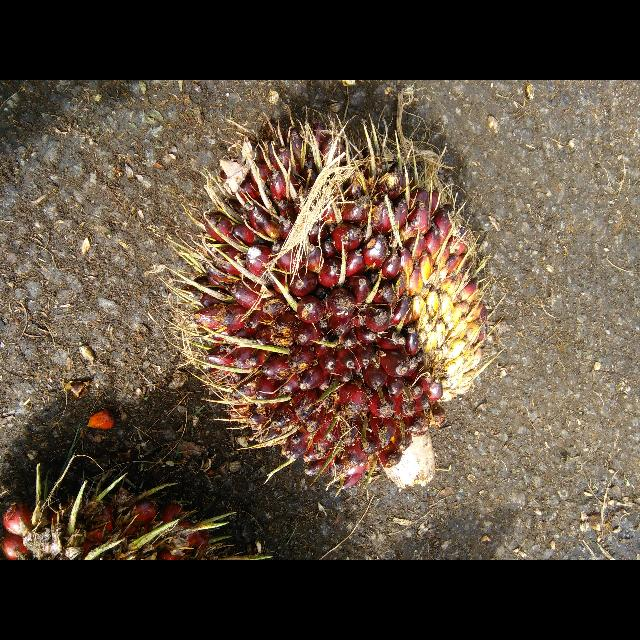Ripe: (183, 121, 486, 489)
